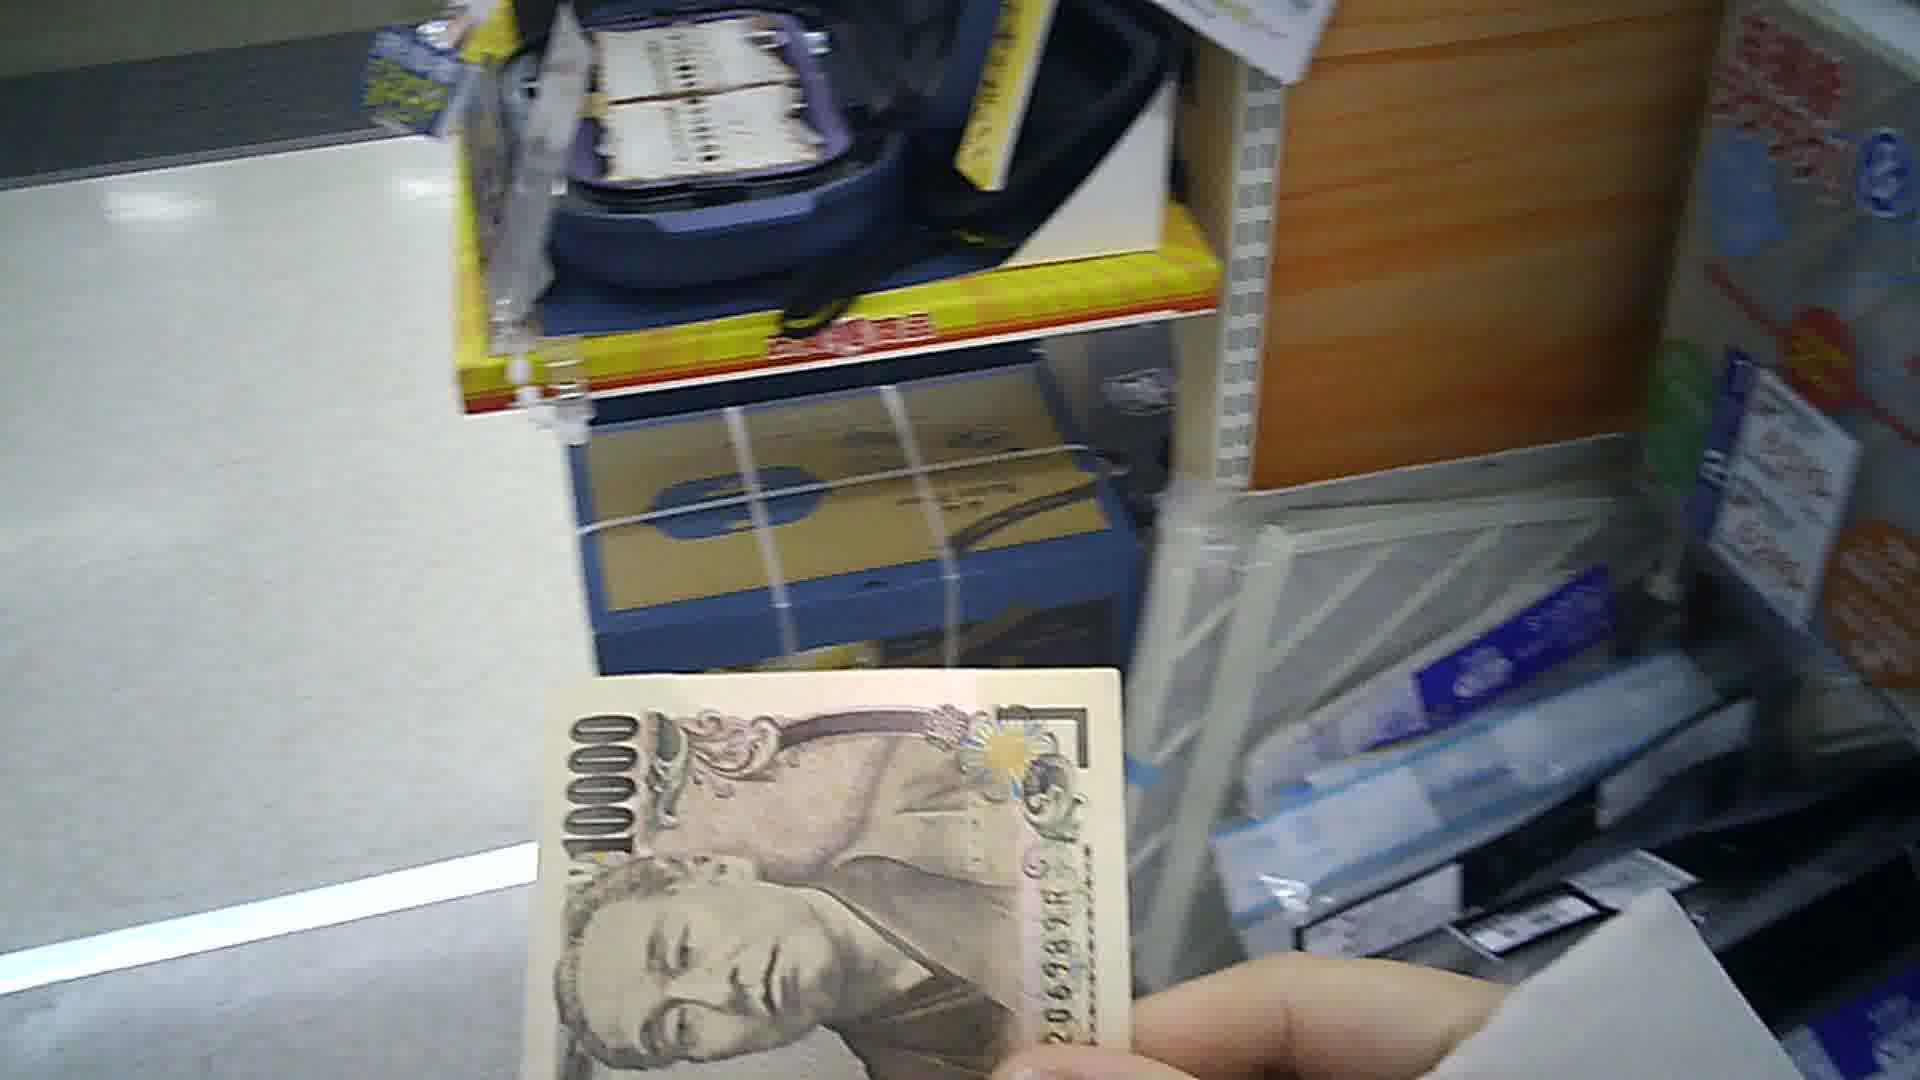10,000 Yen: (498, 665, 1129, 1079)
